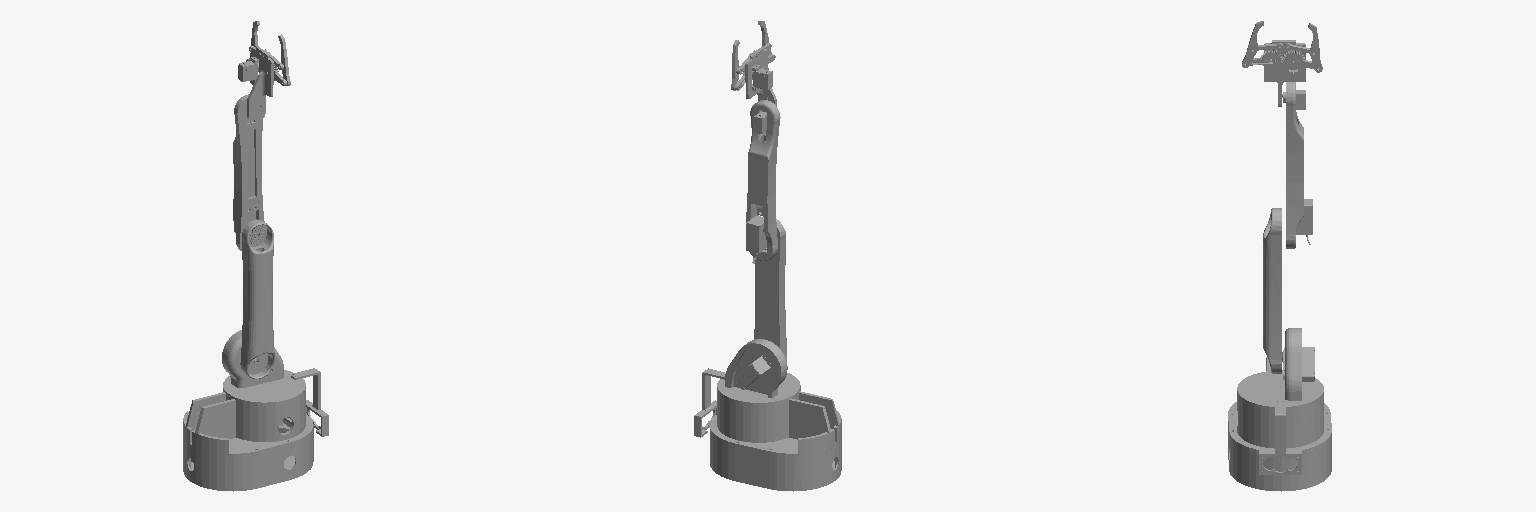
robot.urdf — idk bisa:
<?xml version="1.0" encoding="utf-8"?>
<!-- This URDF was automatically created by SolidWorks to URDF Exporter! Originally created by Stephen Brawner (brawner@gmail.com) 
     Commit Version: 1.6.0-4-g7f85cfe  Build Version: 1.6.7995.38578
     For more information, please see http://wiki.ros.org/sw_urdf_exporter -->
<robot
  name="idk bisa">
  <link
    name="base_link">
    <inertial>
      <origin
        xyz="-0.0292664322308246 3.80643421992316E-05 0.0575803039785511"
        rpy="0 0 0" />
      <mass
        value="0.42551618878006" />
      <inertia
        ixx="0.000670978843894524"
        ixy="-2.18361547604266E-05"
        ixz="-3.190399790107E-05"
        iyy="0.00122635106377729"
        iyz="-1.57861669826766E-06"
        izz="0.0016113426608324" />
    </inertial>
    <visual>
      <origin
        xyz="0 0 0"
        rpy="0 0 0" />
      <geometry>
        <mesh
          filename="package://idk bisa/meshes/base_link.STL" />
      </geometry>
      <material
        name="">
        <color
          rgba="0.698039215686274 0.698039215686274 0.698039215686274 1" />
      </material>
    </visual>
    <collision>
      <origin
        xyz="0 0 0"
        rpy="0 0 0" />
      <geometry>
        <mesh
          filename="package://idk bisa/meshes/base_link.STL" />
      </geometry>
    </collision>
  </link>
  <link
    name="Link_1">
    <inertial>
      <origin
        xyz="-0.000767419948090292 0.0118718059599835 0.0209611467701409"
        rpy="0 0 0" />
      <mass
        value="0.164736997907043" />
      <inertia
        ixx="0.000125211960941619"
        ixy="2.72804715869058E-06"
        ixz="2.07852838030582E-05"
        iyy="0.00016457622409612"
        iyz="-1.36511274586438E-05"
        izz="0.000122489128377102" />
    </inertial>
    <visual>
      <origin
        xyz="0 0 0"
        rpy="0 0 0" />
      <geometry>
        <mesh
          filename="package://idk bisa/meshes/Link_1.STL" />
      </geometry>
      <material
        name="">
        <color
          rgba="0.698039215686274 0.698039215686274 0.698039215686274 1" />
      </material>
    </visual>
    <collision>
      <origin
        xyz="0 0 0"
        rpy="0 0 0" />
      <geometry>
        <mesh
          filename="package://idk bisa/meshes/Link_1.STL" />
      </geometry>
    </collision>
  </link>
  <joint
    name="DoF_1"
    type="revolute">
    <origin
      xyz="0 0 0.113"
      rpy="0 0 0" />
    <parent
      link="base_link" />
    <child
      link="Link_1" />
    <axis
      xyz="0 0 1" />
    <limit
      lower="-1.57"
      upper="1.57"
      effort="1.078"
      velocity="2.0831" />
  </joint>
  <link
    name="Link_2">
    <inertial>
      <origin
        xyz="6.72474452181183E-05 0.0921295367235433 0.00542833259181493"
        rpy="0 0 0" />
      <mass
        value="0.166628195654358" />
      <inertia
        ixx="0.000481303292319749"
        ixy="-3.27605313193028E-07"
        ixz="-3.99355058438834E-10"
        iyy="3.00915604211715E-05"
        iyz="-5.20220247802006E-07"
        izz="0.000495303054145719" />
    </inertial>
    <visual>
      <origin
        xyz="0 0 0"
        rpy="0 0 0" />
      <geometry>
        <mesh
          filename="package://idk bisa/meshes/Link_2.STL" />
      </geometry>
      <material
        name="">
        <color
          rgba="0.698039215686274 0.698039215686274 0.698039215686274 1" />
      </material>
    </visual>
    <collision>
      <origin
        xyz="0 0 0"
        rpy="0 0 0" />
      <geometry>
        <mesh
          filename="package://idk bisa/meshes/Link_2.STL" />
      </geometry>
    </collision>
  </link>
  <joint
    name="DoF_2"
    type="revolute">
    <origin
      xyz="-0.013712 -0.0029 0.038245"
      rpy="1.5708 0 0" />
    <parent
      link="Link_1" />
    <child
      link="Link_2" />
    <axis
      xyz="0 0 1" />
    <limit
      lower="-1.57"
      upper="0"
      effort="1.078"
      velocity="2.38" />
  </joint>
  <link
    name="Link_3">
    <inertial>
      <origin
        xyz="-0.00138436118294554 0.0790047614588952 -0.0214291945278958"
        rpy="0 0 0" />
      <mass
        value="0.146498870549635" />
      <inertia
        ixx="0.00043189288819452"
        ixy="7.31420912806728E-06"
        ixz="2.52374488217292E-08"
        iyy="2.08590031278406E-05"
        iyz="-1.42525877591604E-06"
        izz="0.000441794463126073" />
    </inertial>
    <visual>
      <origin
        xyz="0 0 0"
        rpy="0 0 0" />
      <geometry>
        <mesh
          filename="package://idk bisa/meshes/Link_3.STL" />
      </geometry>
      <material
        name="">
        <color
          rgba="0.698039215686274 0.698039215686274 0.698039215686274 1" />
      </material>
    </visual>
    <collision>
      <origin
        xyz="0 0 0"
        rpy="0 0 0" />
      <geometry>
        <mesh
          filename="package://idk bisa/meshes/Link_3.STL" />
      </geometry>
    </collision>
  </link>
  <joint
    name="DoF_3"
    type="revolute">
    <origin
      xyz="0.0001349 0.185 0"
      rpy="0 0 0" />
    <parent
      link="Link_2" />
    <child
      link="Link_3" />
    <axis
      xyz="0 0 1" />
    <limit
      lower="-3.14"
      upper="0"
      effort="1.078"
      velocity="2.0831" />
  </joint>
  <link
    name="Gripper">
    <inertial>
      <origin
        xyz="0.0104162209817346 0.0467427994035978 -0.00939822029553551"
        rpy="0 0 0" />
      <mass
        value="0.0288009450459534" />
      <inertia
        ixx="1.61053162725798E-05"
        ixy="-2.14786585282005E-06"
        ixz="2.25449586795841E-07"
        iyy="4.89516254785629E-06"
        iyz="8.48614779282712E-07"
        izz="1.3904179074514E-05" />
    </inertial>
    <visual>
      <origin
        xyz="0 0 0"
        rpy="0 0 0" />
      <geometry>
        <mesh
          filename="package://idk bisa/meshes/Gripper.STL" />
      </geometry>
      <material
        name="">
        <color
          rgba="0.698039215686274 0.698039215686274 0.698039215686274 1" />
      </material>
    </visual>
    <collision>
      <origin
        xyz="0 0 0"
        rpy="0 0 0" />
      <geometry>
        <mesh
          filename="package://idk bisa/meshes/Gripper.STL" />
      </geometry>
    </collision>
  </link>
  <joint
    name="DoF_4"
    type="revolute">
    <origin
      xyz="-0.00330817380699471 0.176893514516691 0"
      rpy="0 0 0" />
    <parent
      link="Link_3" />
    <child
      link="Gripper" />
    <axis
      xyz="0 0 1" />
    <limit
      lower="-1.57"
      upper="1.57"
      effort="1.078"
      velocity="3.333" />
  </joint>
  <link
    name="L_Gripper">
    <inertial>
      <origin
        xyz="0.0048223348973041 -0.0152792133299438 -0.00968596962421064"
        rpy="0 0 0" />
      <mass
        value="0.00822151971773342" />
      <inertia
        ixx="2.11563414030114E-06"
        ixy="-6.19426511080213E-09"
        ixz="3.85507861517379E-08"
        iyy="1.33965086732552E-06"
        iyz="2.77046119625864E-07"
        izz="8.10576683942314E-07" />
    </inertial>
    <visual>
      <origin
        xyz="0 0 0"
        rpy="0 0 0" />
      <geometry>
        <mesh
          filename="package://idk bisa/meshes/L_Gripper.STL" />
      </geometry>
      <material
        name="">
        <color
          rgba="0.698039215686274 0.698039215686274 0.698039215686274 1" />
      </material>
    </visual>
    <collision>
      <origin
        xyz="0 0 0"
        rpy="0 0 0" />
      <geometry>
        <mesh
          filename="package://idk bisa/meshes/L_Gripper.STL" />
      </geometry>
    </collision>
  </link>
  <joint
    name="DoF_5_L"
    type="revolute">
    <origin
      xyz="0.019323670230242 0.0600938288747926 -0.0192999999999634"
      rpy="1.57079632679494 0 0" />
    <parent
      link="Gripper" />
    <child
      link="L_Gripper" />
    <axis
      xyz="-0.999543864717968 0 -0.0302003725915523" />
    <limit
      lower="-1.57"
      upper="1.57"
      effort="0.2157"
      velocity="3.333" />
  </joint>
  <link
    name="End_L_Gripper">
    <inertial>
      <origin
        xyz="-0.0243392314890261 0.0150998391826804 0.460597785665091"
        rpy="0 0 0" />
      <mass
        value="1.06652387138315" />
      <inertia
        ixx="0.0329660012877163"
        ixy="0.000491916856560557"
        ixz="0.000410673551083743"
        iyy="0.0295699434114826"
        iyz="0.00269528099438001"
        izz="0.0063624611385729" />
    </inertial>
    <visual>
      <origin
        xyz="0 0 0"
        rpy="0 0 0" />
      <geometry>
        <mesh
          filename="package://idk bisa/meshes/End_L_Gripper.STL" />
      </geometry>
      <material
        name="">
        <color
          rgba="1 1 1 1" />
      </material>
    </visual>
    <collision>
      <origin
        xyz="0 0 0"
        rpy="0 0 0" />
      <geometry>
        <mesh
          filename="package://idk bisa/meshes/End_L_Gripper.STL" />
      </geometry>
    </collision>
  </link>
  <joint
    name="End_DoF_5_L"
    type="fixed">
    <origin
      xyz="0.00664943977472825 -0.0204099882292862 -0.0545161065695527"
      rpy="0 0 0" />
    <parent
      link="L_Gripper" />
    <child
      link="End_L_Gripper" />
    <axis
      xyz="0 0 0" />
    <limit
      lower="-1.57"
      upper="1.57"
      effort="0"
      velocity="0" />
  </joint>
  <link
    name="R_Gripper">
    <inertial>
      <origin
        xyz="0.0048008258614054 0.0133464533183085 -0.0125198133806509"
        rpy="0 0 0" />
      <mass
        value="0.00822151966127057" />
      <inertia
        ixx="2.11565142133509E-06"
        ixy="1.2913954006927E-08"
        ixz="3.6570265453051E-08"
        iyy="1.22745929783275E-06"
        iyz="-3.51001323419732E-07"
        izz="9.22750982054868E-07" />
    </inertial>
    <visual>
      <origin
        xyz="0 0 0"
        rpy="0 0 0" />
      <geometry>
        <mesh
          filename="package://idk bisa/meshes/R_Gripper.STL" />
      </geometry>
      <material
        name="">
        <color
          rgba="0.698039215686274 0.698039215686274 0.698039215686274 1" />
      </material>
    </visual>
    <collision>
      <origin
        xyz="0 0 0"
        rpy="0 0 0" />
      <geometry>
        <mesh
          filename="package://idk bisa/meshes/R_Gripper.STL" />
      </geometry>
    </collision>
  </link>
  <joint
    name="DoF_5_L"
    type="revolute">
    <origin
      xyz="0.0193342403606491 0.0604436692274439 0.00834000000003673"
      rpy="1.57079632679494 0 0" />
    <parent
      link="Gripper" />
    <child
      link="R_Gripper" />
    <axis
      xyz="-0.999543864717968 0 -0.0302003725915507" />
    <limit
      lower="-1.57"
      upper="1.57"
      effort="0.2157"
      velocity="3.333" />
  </joint>
  <link
    name="End_R_Gripper">
    <inertial>
      <origin
        xyz="-0.024443394684749 -0.0435073109683064 0.46404528231098"
        rpy="0 0 0" />
      <mass
        value="1.06652387138315" />
      <inertia
        ixx="0.0329660012877163"
        ixy="0.000491916856560561"
        ixz="0.000410673551083737"
        iyy="0.0295699434114827"
        iyz="0.00269528099437977"
        izz="0.00636246113857284" />
    </inertial>
    <visual>
      <origin
        xyz="0 0 0"
        rpy="0 0 0" />
      <geometry>
        <mesh
          filename="package://idk bisa/meshes/End_R_Gripper.STL" />
      </geometry>
      <material
        name="">
        <color
          rgba="1 1 1 1" />
      </material>
    </visual>
    <collision>
      <origin
        xyz="0 0 0"
        rpy="0 0 0" />
      <geometry>
        <mesh
          filename="package://idk bisa/meshes/End_R_Gripper.STL" />
      </geometry>
    </collision>
  </link>
  <joint
    name="End_DoF_5_R"
    type="fixed">
    <origin
      xyz="0.00674303284004404 0.0105571619217052 -0.0576137628627893"
      rpy="0 0 0" />
    <parent
      link="R_Gripper" />
    <child
      link="End_R_Gripper" />
    <axis
      xyz="0 0 0" />
    <limit
      lower="-1.57"
      upper="1.57"
      effort="0"
      velocity="0" />
  </joint>
</robot>

--- Render facts (derived) ---
The picture shows the robot from 3 angles, left to right: view 1: azimuth 30°, elevation 25°; view 2: azimuth 150°, elevation 25°; view 3: azimuth 270°, elevation 25°; orthographic projection.
Model idk bisa with 9 links and 8 joints (6 revolute, 2 fixed), rooted at base_link, posed all joints at 0.
Visible links, largest first — view 1: base_link, Link_2, Link_1, Link_3, Gripper; view 2: base_link, Link_1, Link_3, Link_2, Gripper; view 3: base_link, Link_1, Link_3, Link_2, Gripper, L_Gripper, R_Gripper.
Link boxes in pixels (x1,y1,x2,y2): base_link: (183,389,313,491); Link_2: (240,220,274,378); Link_1: (222,330,328,436); Link_3: (233,94,264,250); Gripper: (238,47,273,120); base_link: (710,388,841,491); Link_1: (694,339,800,437); Link_3: (746,100,780,263); Link_2: (754,219,786,360); Gripper: (745,48,776,106); base_link: (1228,357,1331,491); Link_1: (1237,328,1323,474); Link_3: (1282,82,1312,248); Link_2: (1263,208,1281,373); Gripper: (1264,40,1305,106); L_Gripper: (1282,23,1322,72); R_Gripper: (1242,21,1282,69).
Bounding box of the posed robot: 0.1974 × 0.1314 × 0.6312 m (x, y, z).
7 mesh visuals loaded from 9 distinct referenced files (7 binary STL); not drawn: 2 (reference not matched to a file when rendering).
